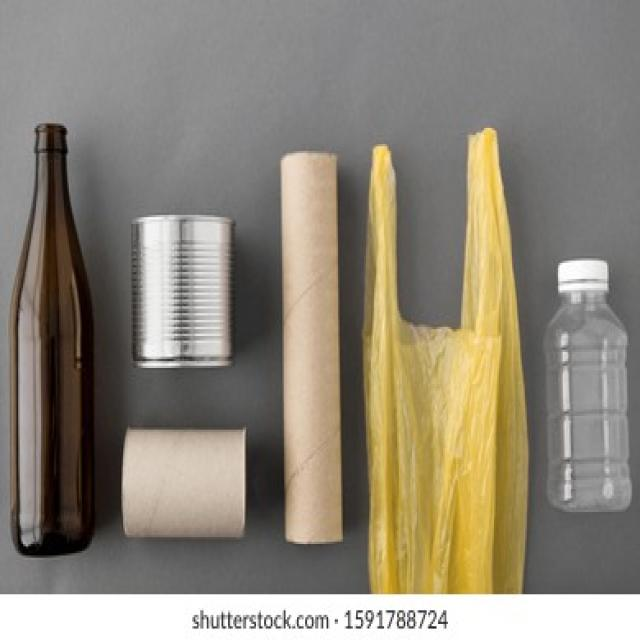cardboard: (276, 151, 354, 548), (118, 425, 253, 546)
glass: (7, 119, 108, 544)
metal: (125, 215, 241, 375)
plastic: (371, 135, 527, 587), (548, 256, 632, 514)
